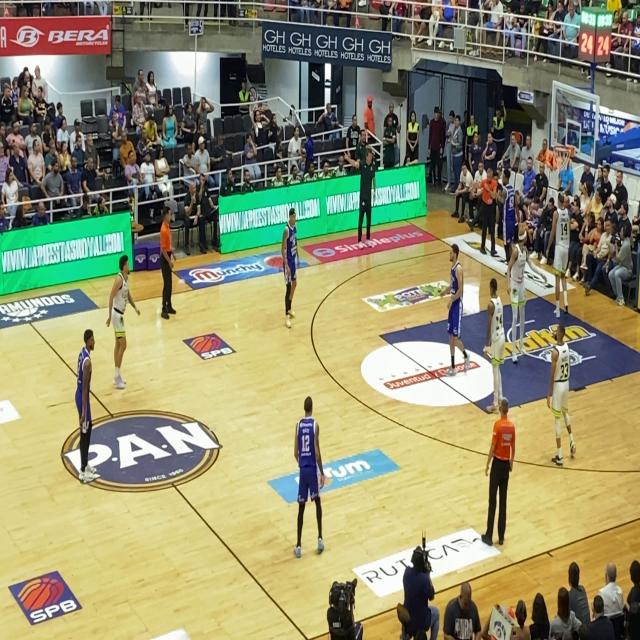referee: (479, 393, 523, 553), (155, 206, 181, 321)
team1: (548, 319, 582, 467), (104, 247, 137, 382), (485, 271, 513, 391)
team2: (288, 386, 332, 557), (64, 324, 102, 470), (441, 232, 472, 374), (271, 203, 301, 323)
ubasket: (552, 143, 572, 175)
